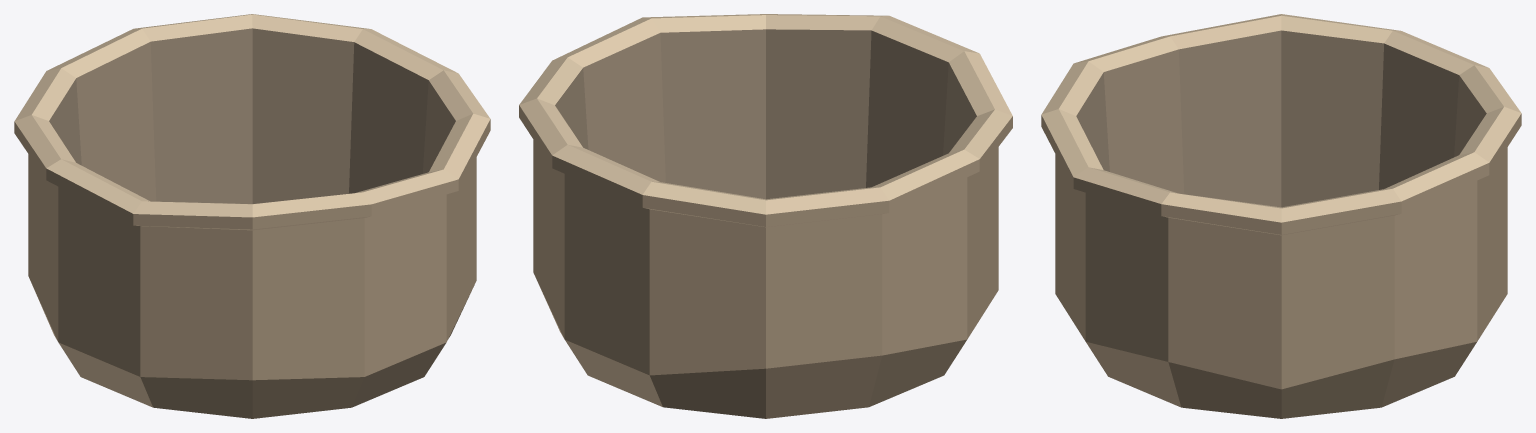
File: SM_Prop_Pot_06.fbx
3 renders of one model, left to right at view 1: azimuth 30°, elevation 25°; view 2: azimuth 150°, elevation 25°; view 3: azimuth 270°, elevation 25°, orthographic. The views are drawn at different scales.
Parts seen in each view (by area): view 1: SM_Prop_Pot_06; view 2: SM_Prop_Pot_06; view 3: SM_Prop_Pot_06.
Part boxes in pixels (x1,y1,x2,y2): SM_Prop_Pot_06: (14,14,490,418); SM_Prop_Pot_06: (519,14,1012,418); SM_Prop_Pot_06: (1041,14,1521,418).
Bounding box in the file's own units: 0.00742 × 0.00391 × 0.00742.
1 material, 1 textured.
